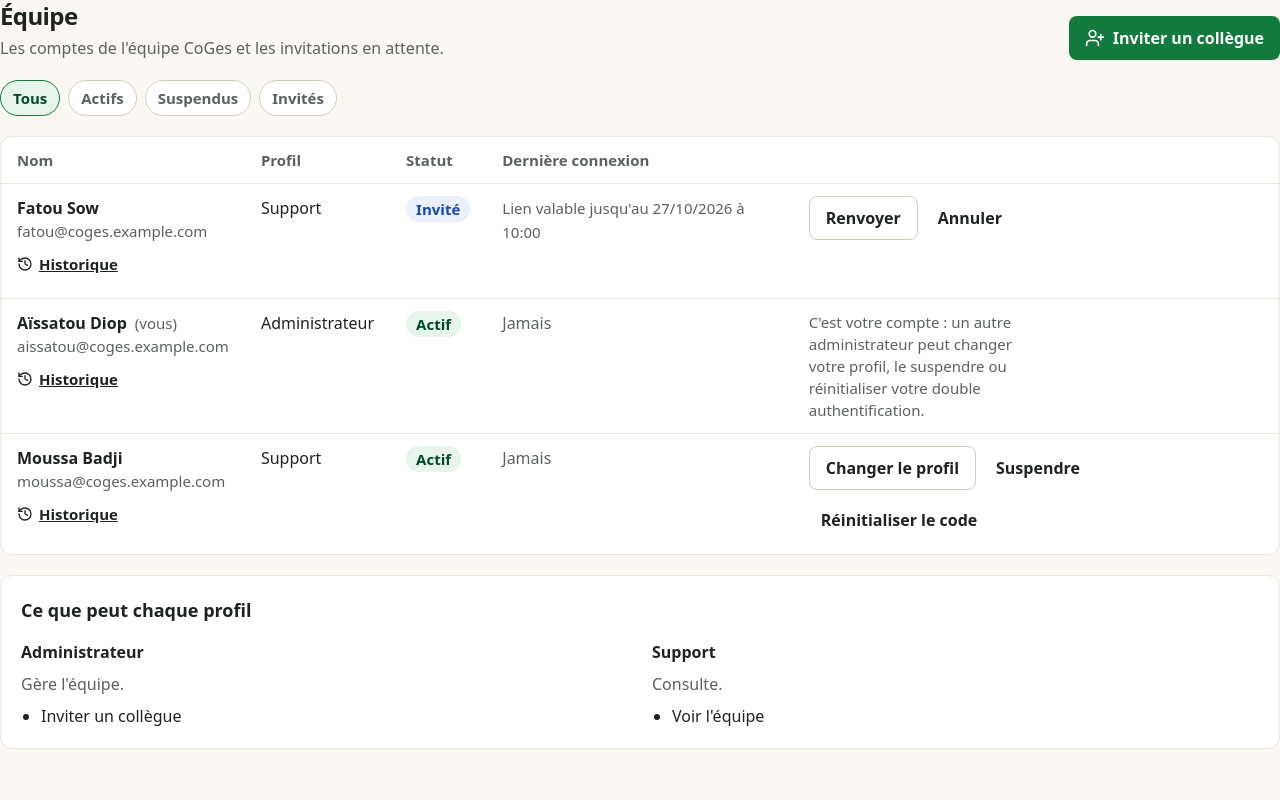
Test: équipe › changer le profil : un clic, une confirmation qui nomme la cible
The image size is (1280, 800).
What coordinates should you click on to do the following:
click the button "Changer le profil"
I would click on:
 (892, 468)
Its box is top-left (809, 446), bottom-right (976, 490).
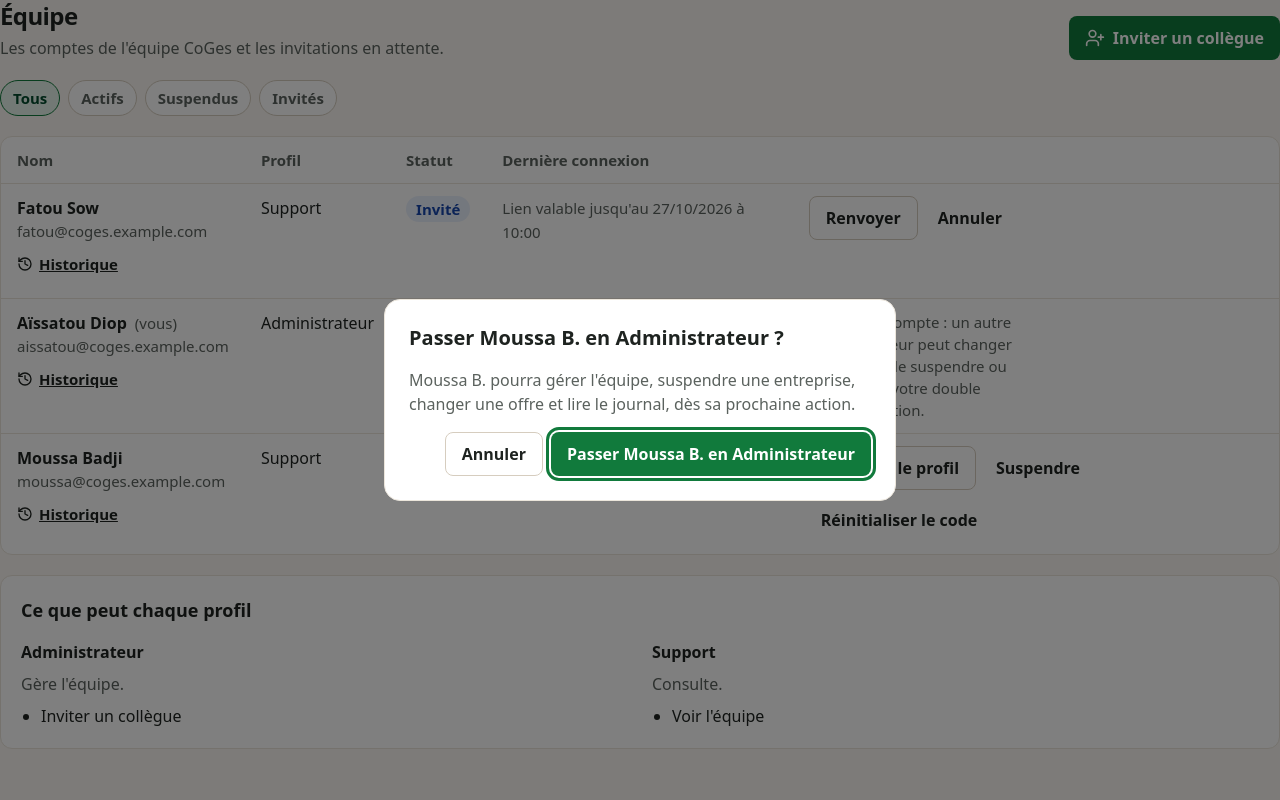
What coordinates should you click on to do the following:
click the button "Passer Moussa B. en Administrateur"
I would click on:
 (711, 454)
Its box is top-left (551, 432), bottom-right (871, 476).
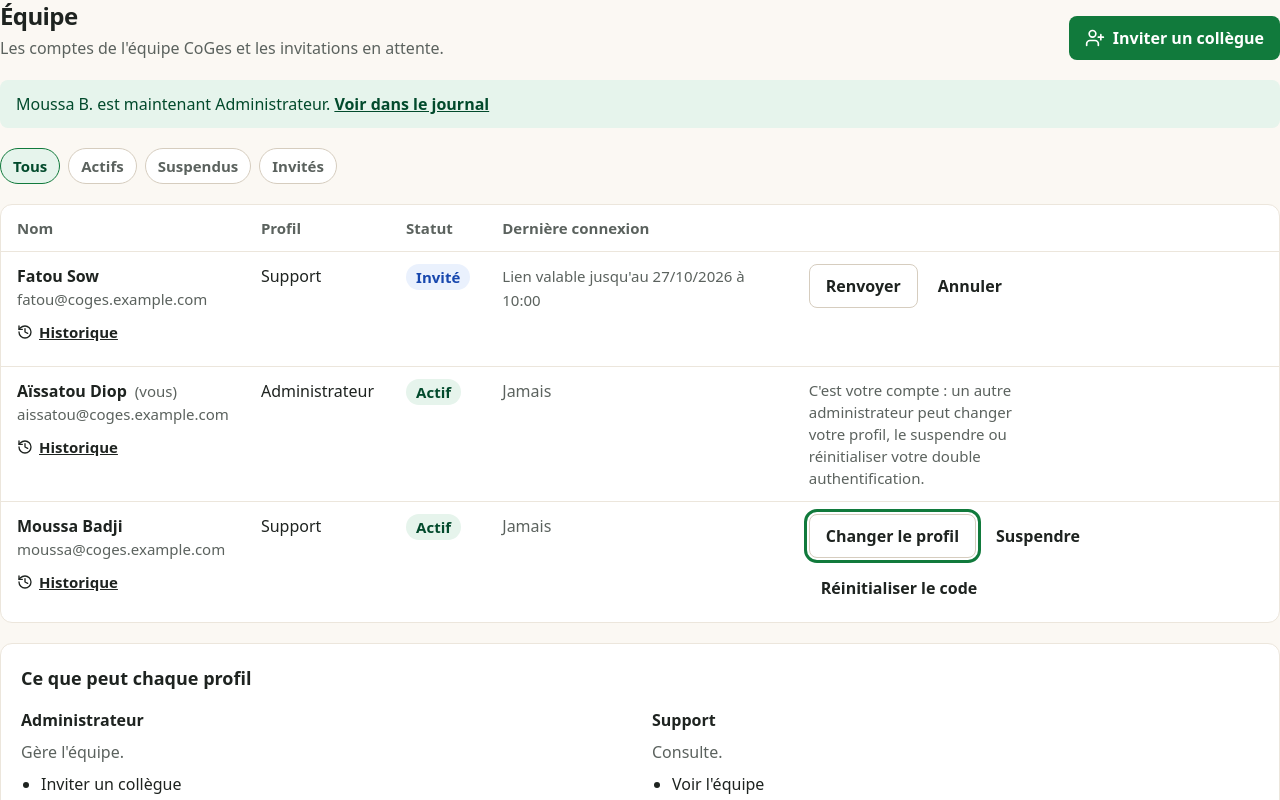
Now the text "Moussa B. est maintenant Administrateur. Voir dans le journal" is shown, box top-left (0, 80), bottom-right (1279, 128)
